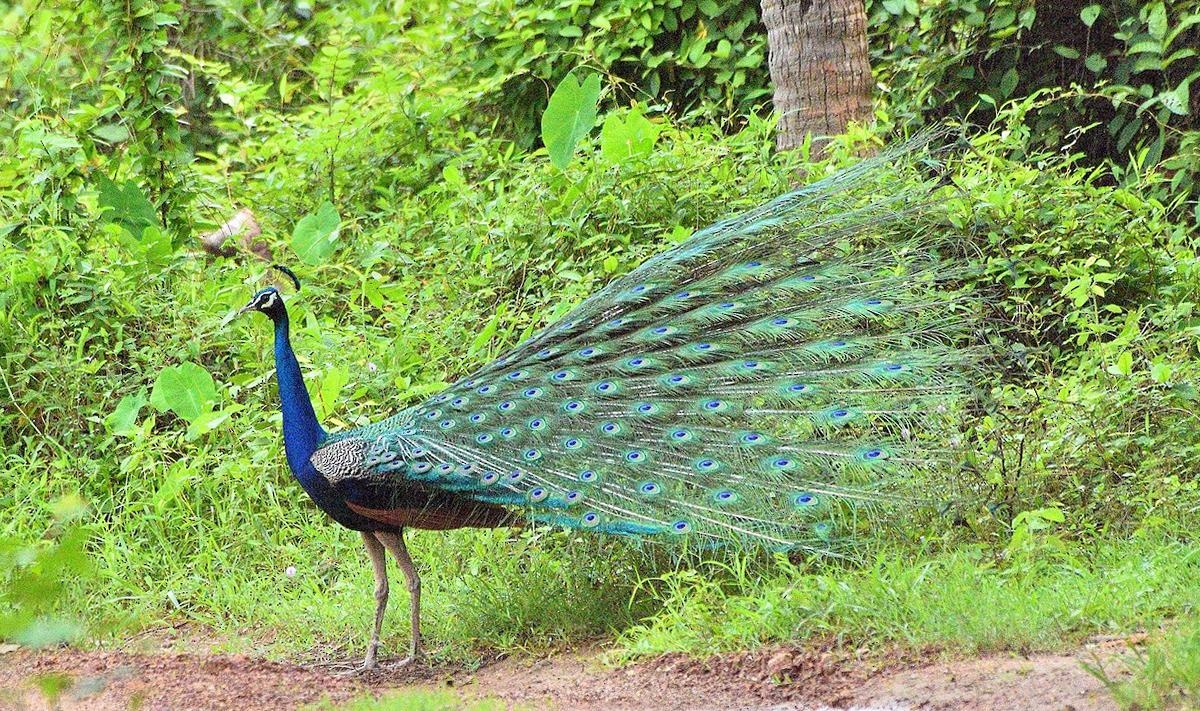peacock: (218, 203, 1027, 618)
